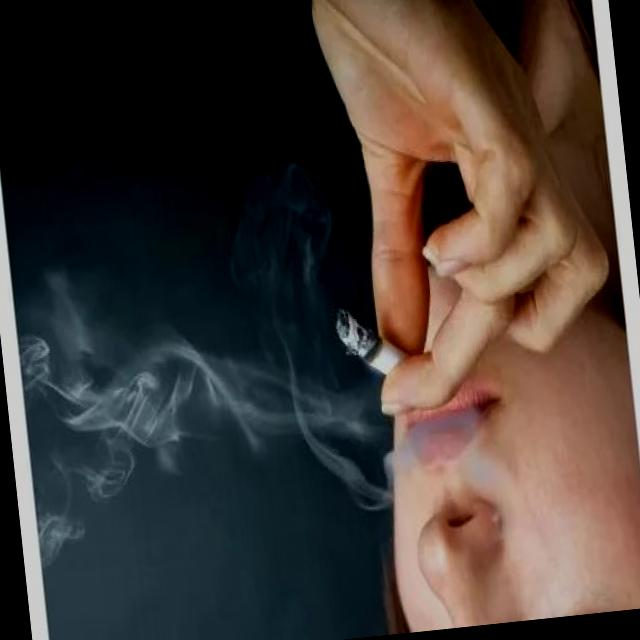smoke: (330, 290, 419, 392)
